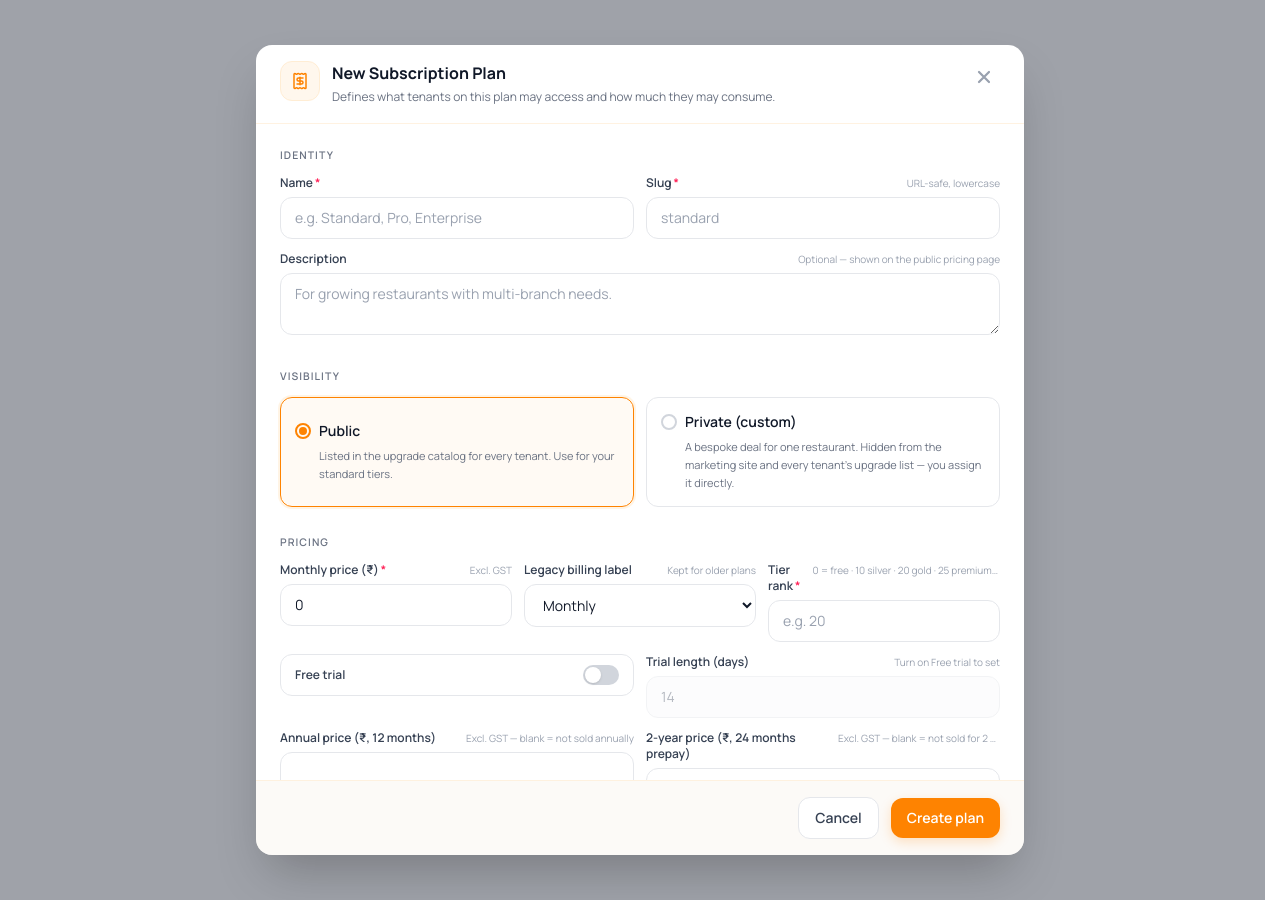
it: PlanFormModal tier / trial / card fields › create: blank tier blocks the submit with an inline error
Type "Starter" into the field labelled "Name*" at (457, 218), box [280,197,634,239]
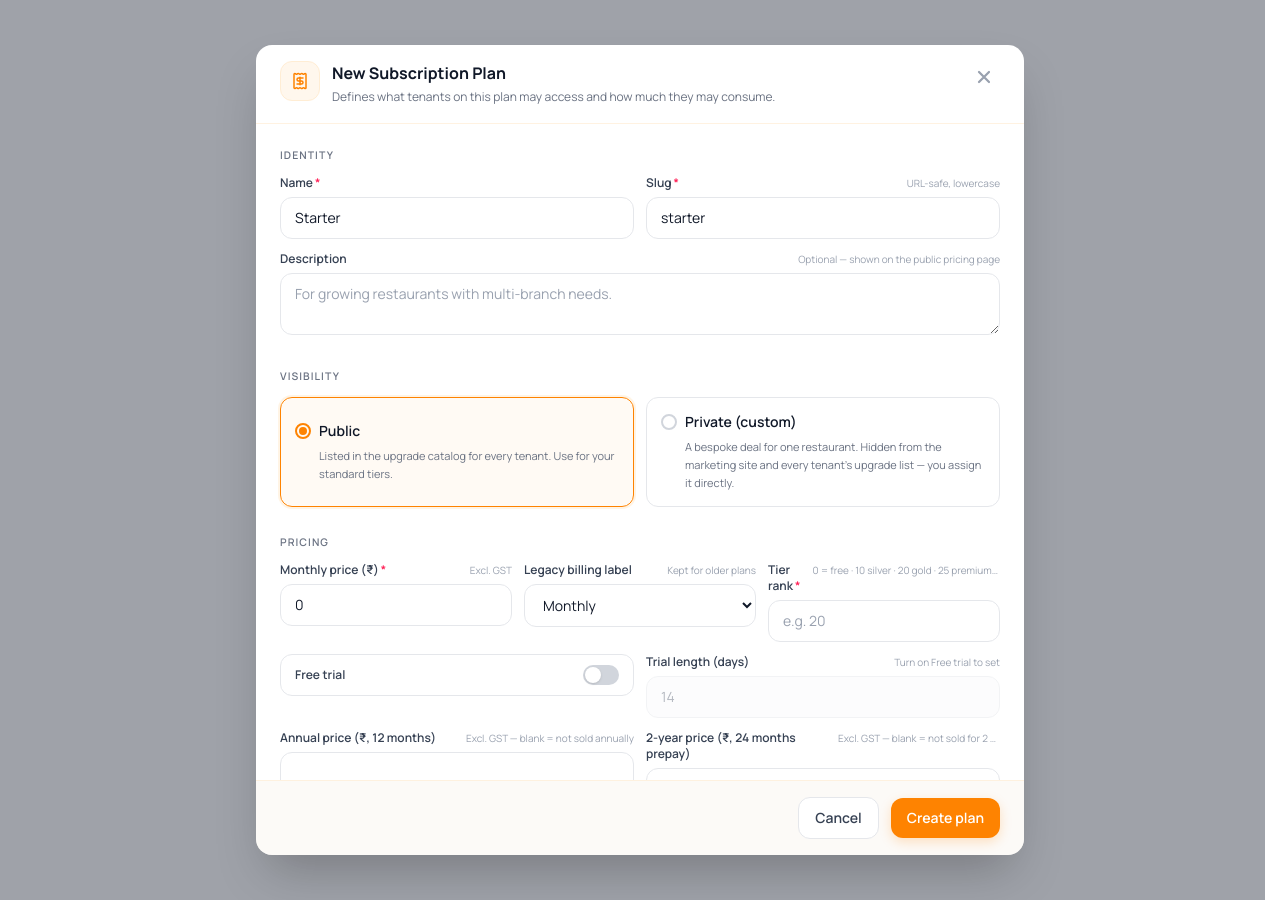
Replace the text in the number field labelled "Monthly price (₹)* Excl. GST" with "499" at (396, 605), box [280,584,512,626]
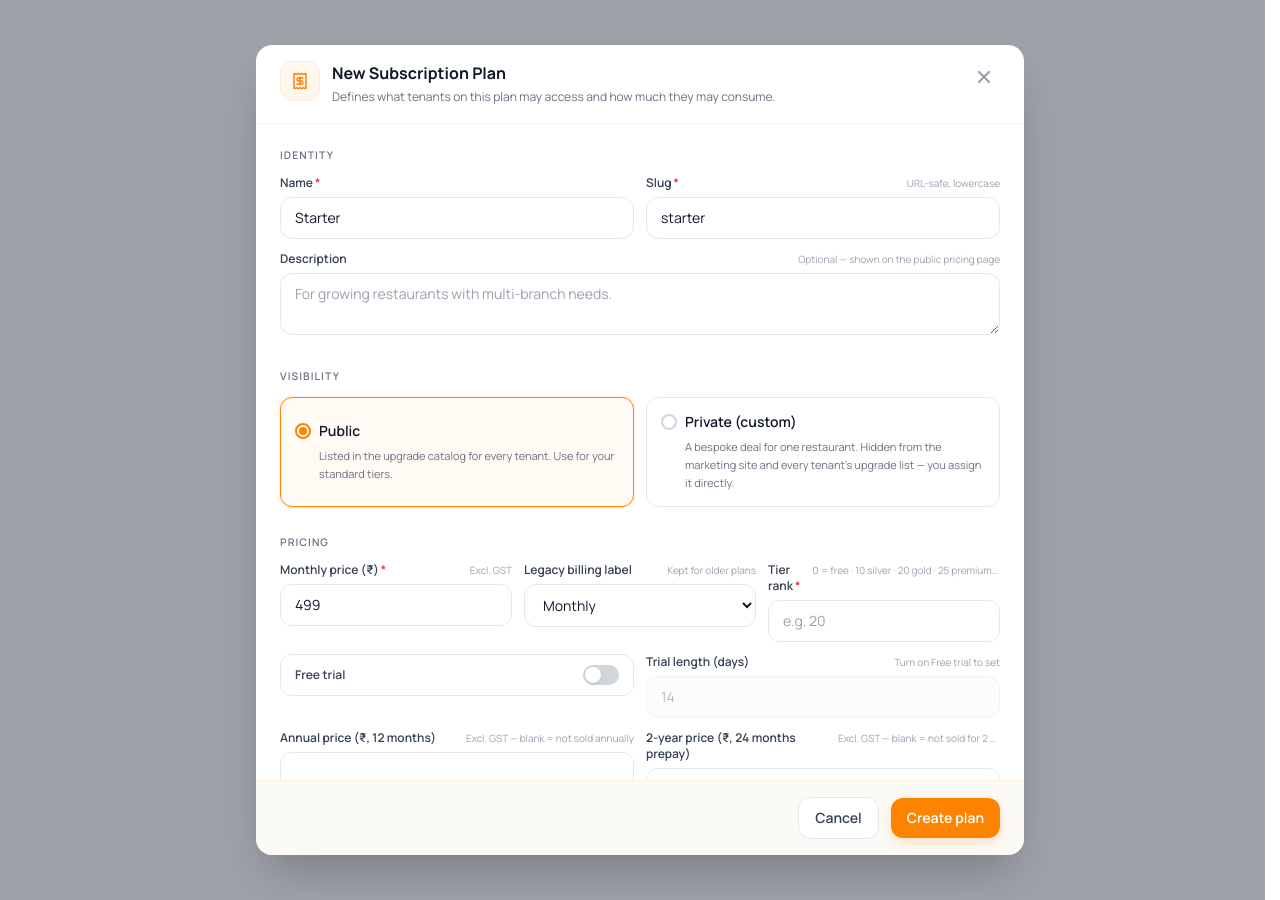
Click the button "Create plan" at (945, 818), box [891,798,1000,838]
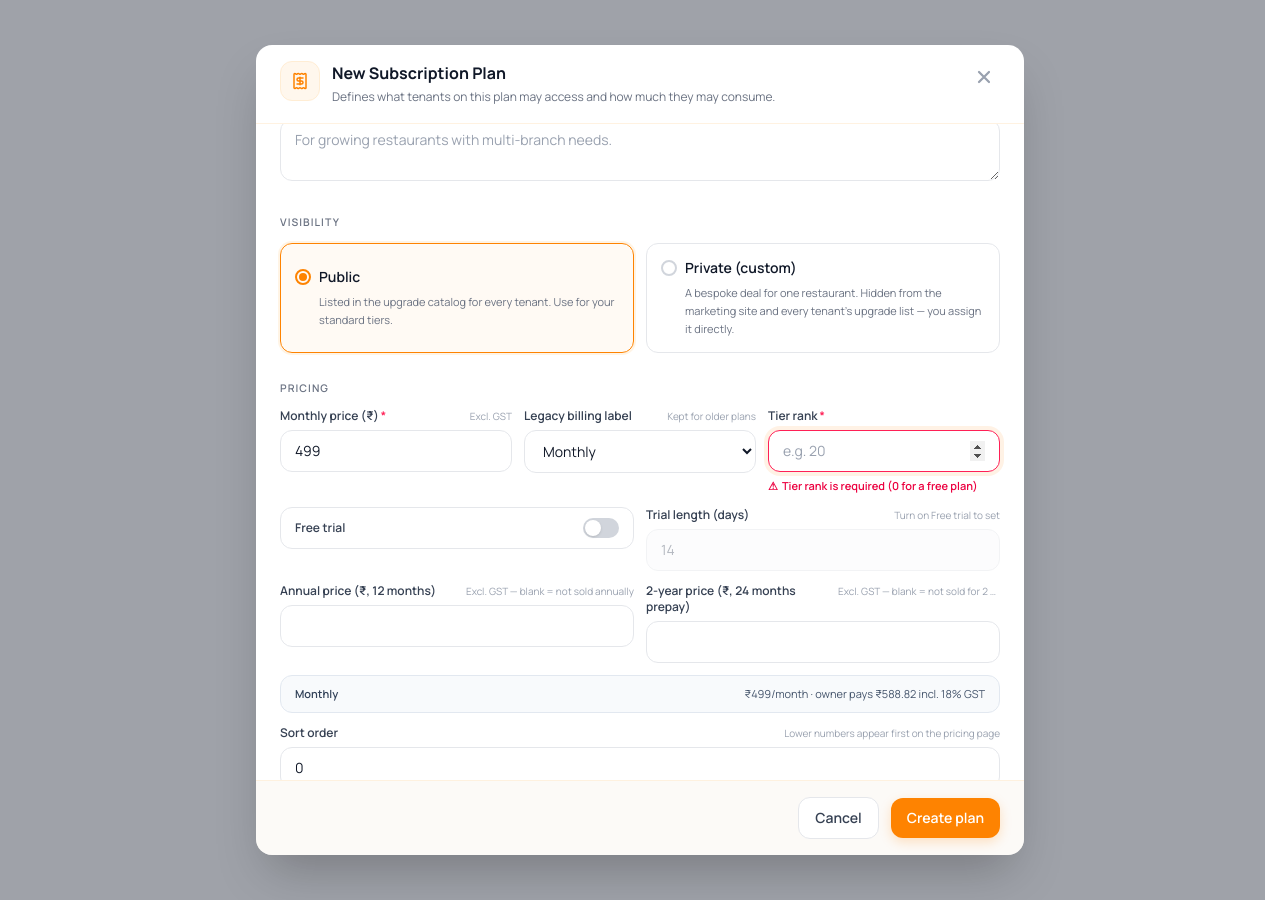
Expected: the text "⚠ Tier rank is required (0 for a free plan)" is shown, [768,478,1000,495]
